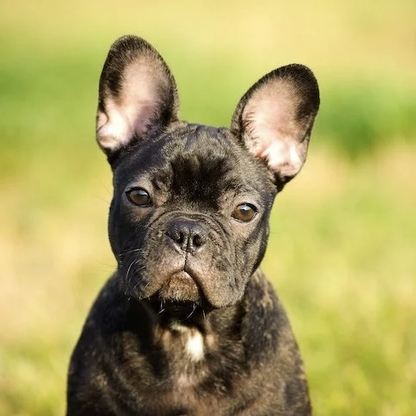bulldog: (66, 33, 325, 416)
